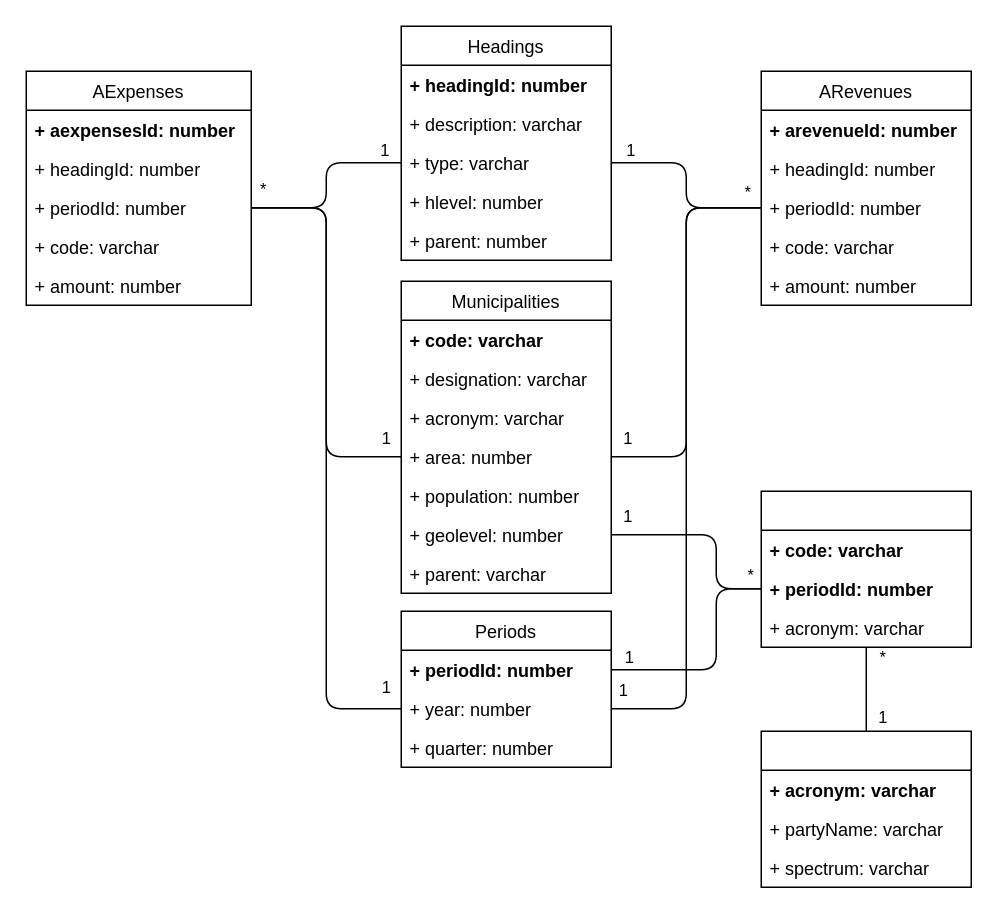
This 998x918 diagram has some shape labels left out. Each missing label, with the box of its shape:
Leaderships: (760, 490, 971, 647)
Parties: (760, 730, 971, 887)
